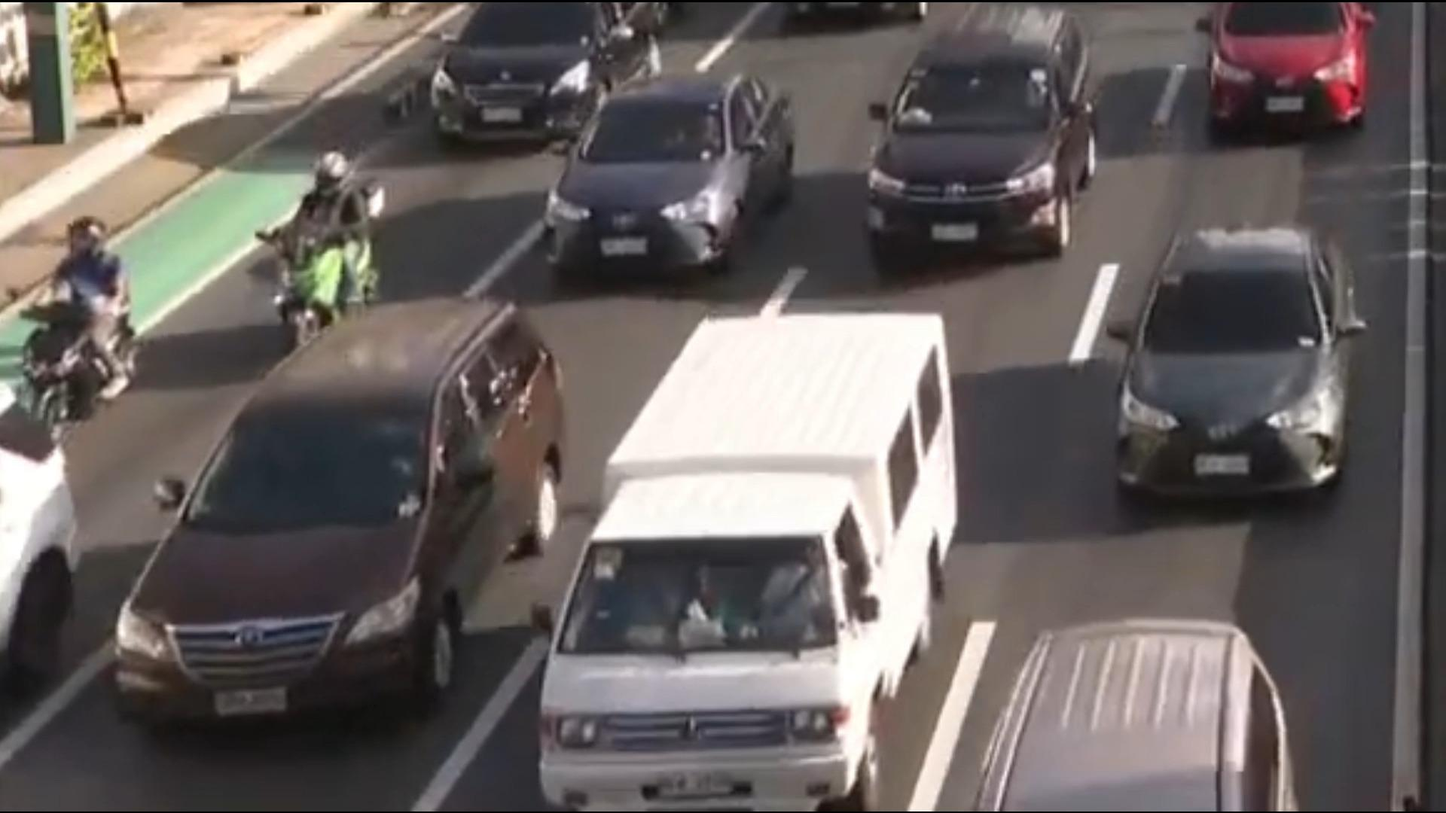Motorcycle: (18, 217, 172, 439), (266, 149, 413, 346)
Multicab: (429, 294, 1019, 813)
SUV: (84, 256, 593, 743), (827, 0, 1145, 272), (952, 608, 1296, 813), (407, 0, 661, 167), (1177, 0, 1398, 164)
Sedan: (1054, 217, 1384, 545), (518, 47, 816, 283)
